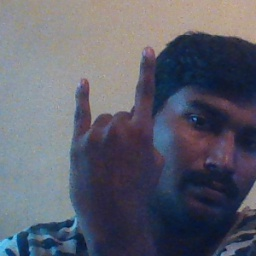V: (63, 41, 171, 208)
